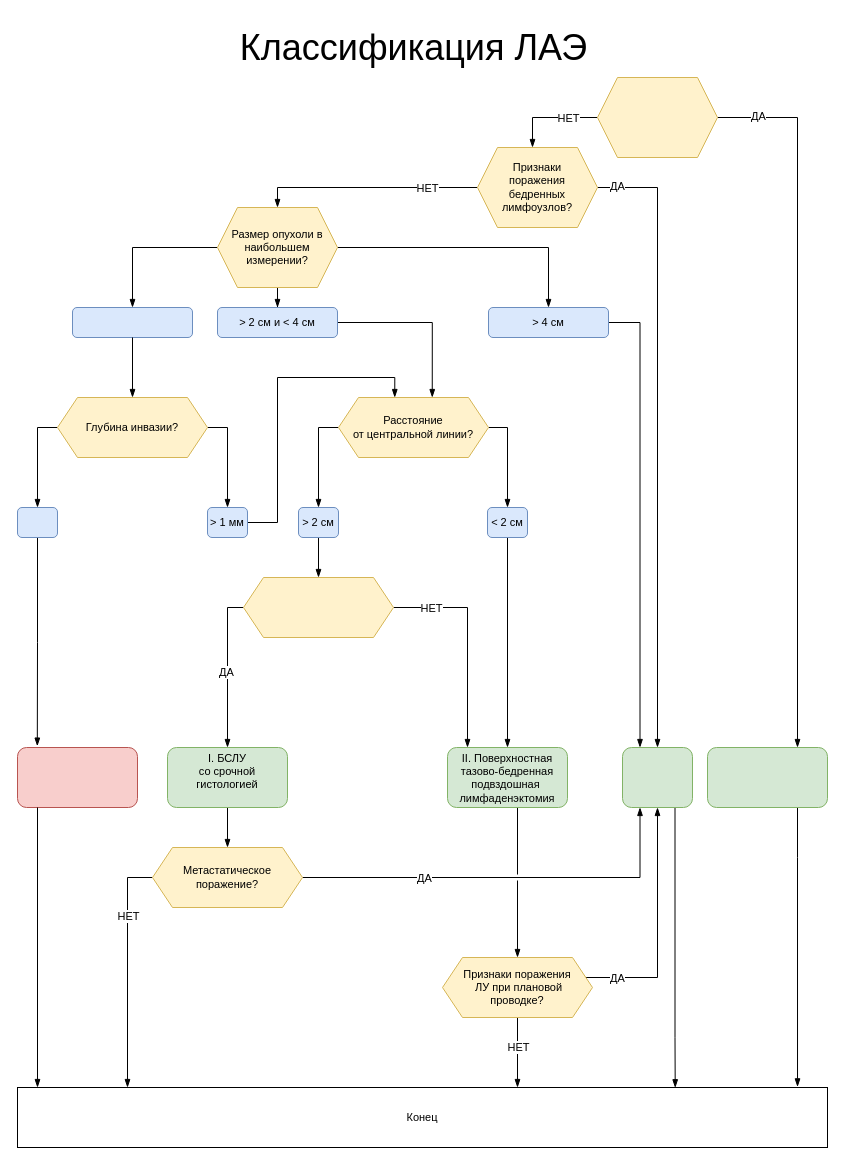
Image size: 845x1165. Some labels were removed from this diagram. The shapes that lost their labels are listed below. From the top down, each one's box as (x1, y1, x2, y2) in pixels, then its label:
(596, 76, 718, 158): Признаки поражения тазовых лимфоузлов?
(72, 306, 192, 338): ≤ 2 см
(16, 506, 58, 538): ≤ 1 мм
(242, 576, 394, 638): Возможность проведения БСЛУ?
(16, 746, 138, 808): Лимфаденэктомия не показана
(622, 746, 692, 808): III. Дюкен
(706, 746, 828, 808): IV. Тазово-бедренная подвздошная лимфаденэктомия
